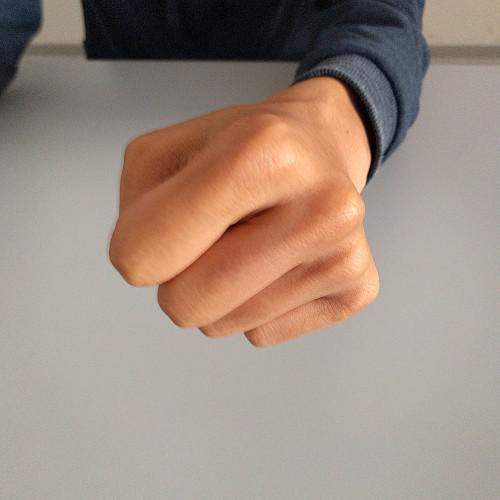rock: (103, 94, 393, 353)
